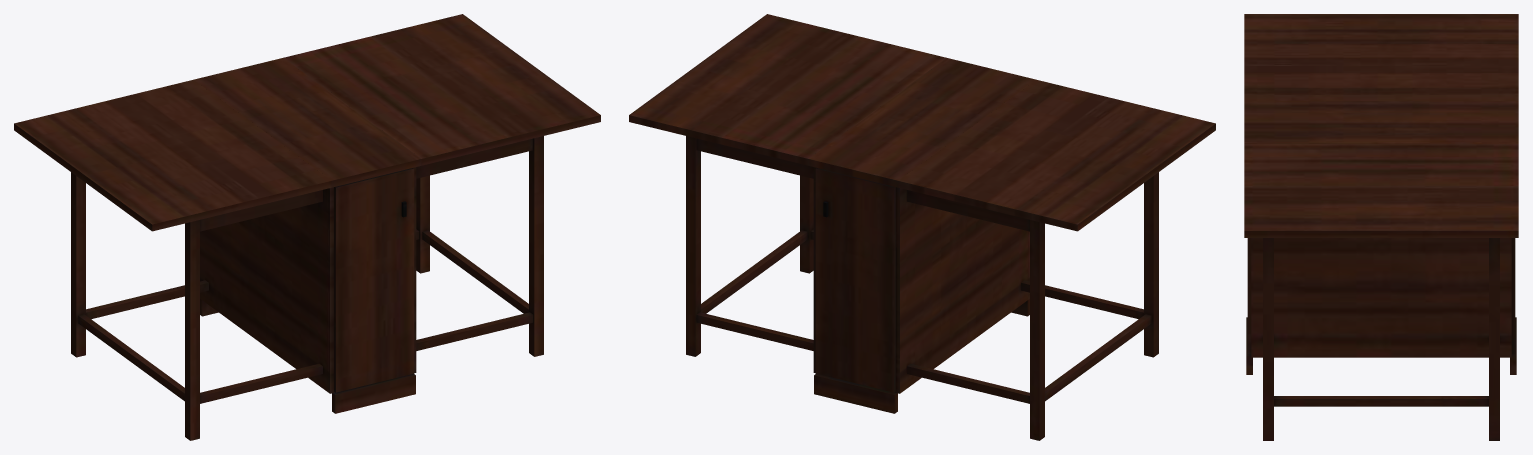
File: table_book_lod1_web.glb
3 renders of one model, left to right at view 1: azimuth 30°, elevation 25°; view 2: azimuth 150°, elevation 25°; view 3: azimuth 270°, elevation 25°, orthographic.
Parts seen in each view (by area): view 1: TableBook_Body, Leaf_L_Mesh, Leaf_R_Mesh, Gate_L_Mesh, Gate_R_Mesh; view 2: TableBook_Body, Leaf_L_Mesh, Leaf_R_Mesh, Gate_L_Mesh, Gate_R_Mesh; view 3: TableBook_Body, Leaf_R_Mesh, Leaf_L_Mesh, Gate_R_Mesh.
Part boxes in pixels (x1=…): TableBook_Body: x1=194, y1=58, x2=421, y2=413; Leaf_L_Mesh: x1=14, y1=79, x2=331, y2=231; Leaf_R_Mesh: x1=283, y1=14, x2=600, y2=165; Gate_L_Mesh: x1=71, y1=172, x2=322, y2=440; Gate_R_Mesh: x1=416, y1=136, x2=543, y2=356; TableBook_Body: x1=808, y1=58, x2=1035, y2=413; Leaf_L_Mesh: x1=898, y1=79, x2=1215, y2=231; Leaf_R_Mesh: x1=629, y1=14, x2=946, y2=165; Gate_L_Mesh: x1=907, y1=172, x2=1158, y2=440; Gate_R_Mesh: x1=686, y1=136, x2=813, y2=356; TableBook_Body: x1=1244, y1=101, x2=1518, y2=374; Leaf_R_Mesh: x1=1244, y1=144, x2=1518, y2=237; Leaf_L_Mesh: x1=1244, y1=14, x2=1518, y2=100; Gate_R_Mesh: x1=1263, y1=238, x2=1499, y2=440.
Bounding box in the file's own units: 1.5 × 0.75 × 0.8.
Materials: 1 (1 with a texture image).
